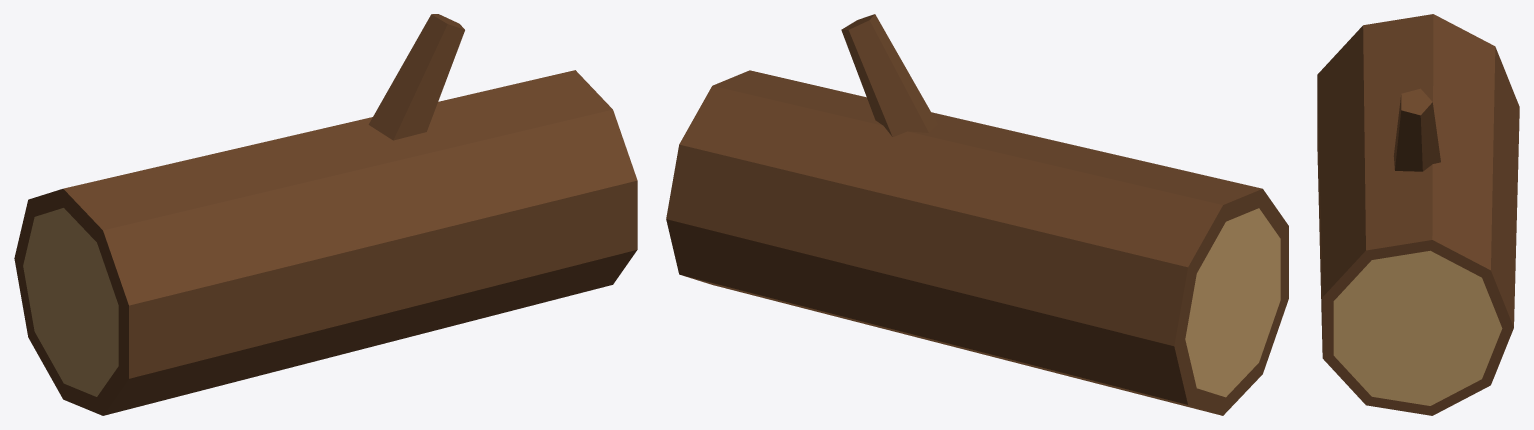
File: Kutuk.fbx
The picture shows the model from 3 angles, left to right: view 1: azimuth 30°, elevation 25°; view 2: azimuth 150°, elevation 25°; view 3: azimuth 270°, elevation 25°; orthographic projection. The views are drawn at different scales.
Parts seen in each view (by area): view 1: Kutuk; view 2: Kutuk; view 3: Kutuk.
Part boxes in pixels (bbox=[...]): Kutuk: bbox=[14, 14, 637, 415]; Kutuk: bbox=[666, 14, 1288, 415]; Kutuk: bbox=[1317, 14, 1519, 415].
Size of the model in its own units: 90.4 by 50.86 by 34.91.
